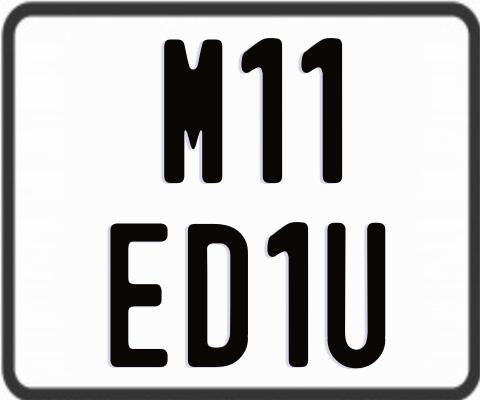1: (267, 221, 311, 369), (241, 37, 284, 186), (299, 36, 343, 181)
D: (188, 222, 248, 368)
E: (108, 220, 171, 367)
M: (163, 37, 222, 187)
U: (327, 221, 390, 366)
